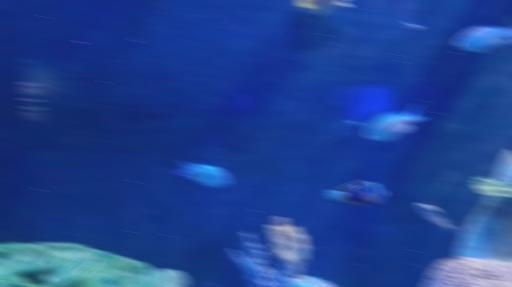Fish: (366, 105, 425, 140), (326, 181, 385, 204), (455, 28, 511, 51), (178, 161, 229, 186), (417, 204, 454, 232), (298, 0, 349, 14), (399, 20, 422, 29)
